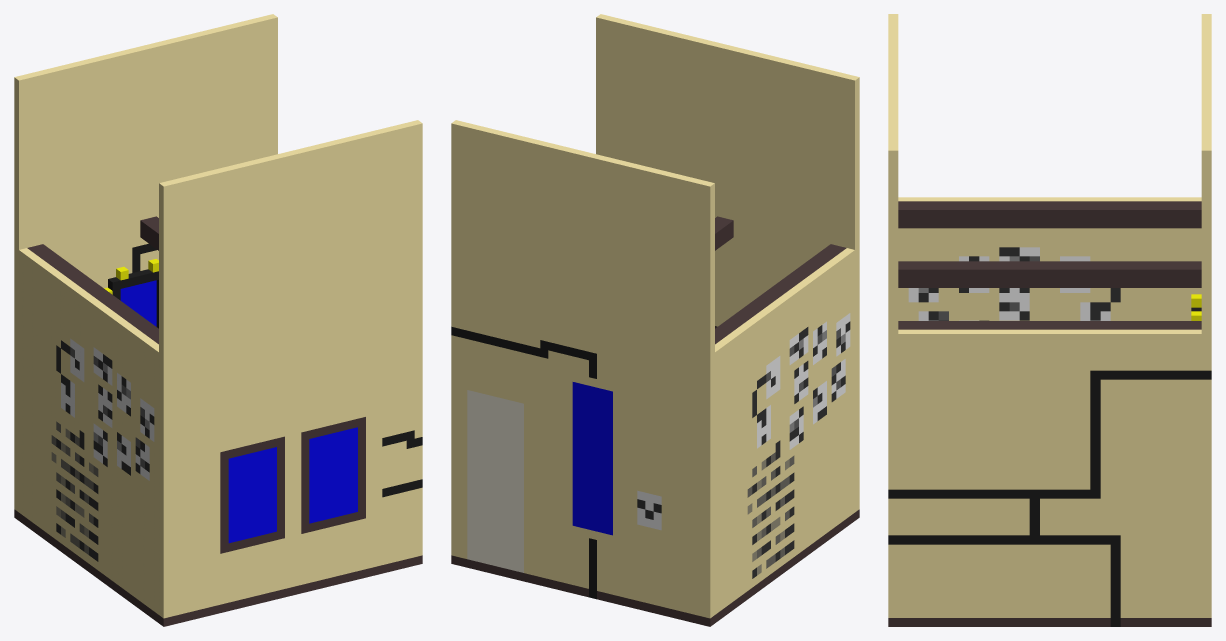
The model's file is bedroom.gltf.
The picture shows the model from 3 angles, left to right: view 1: azimuth 30°, elevation 25°; view 2: azimuth 150°, elevation 25°; view 3: azimuth 270°, elevation 25°; orthographic projection. The views are drawn at different scales.
Visible parts, largest first — view 1: Structure One, Windows, Floor, Wire, Portal, Portal Frame; view 2: Structure One, Portal, Floor, Wire; view 3: Structure One, Wire, Floor.
Part boxes in pixels (<box>): Structure One: <box>14,14,422,618</box>; Windows: <box>228,427,357,543</box>; Floor: <box>14,509,422,626</box>; Wire: <box>132,243,422,497</box>; Portal: <box>120,280,156,326</box>; Portal Frame: <box>108,269,158,328</box>; Structure One: <box>451,14,859,618</box>; Portal: <box>572,382,612,535</box>; Floor: <box>451,509,859,626</box>; Wire: <box>451,326,596,599</box>; Structure One: <box>888,14,1211,617</box>; Wire: <box>888,370,1211,626</box>; Floor: <box>888,618,1211,626</box>.
Bounding box in the file's own units: 32 × 52 × 32.
Materials: 2 (2 with a texture image).
